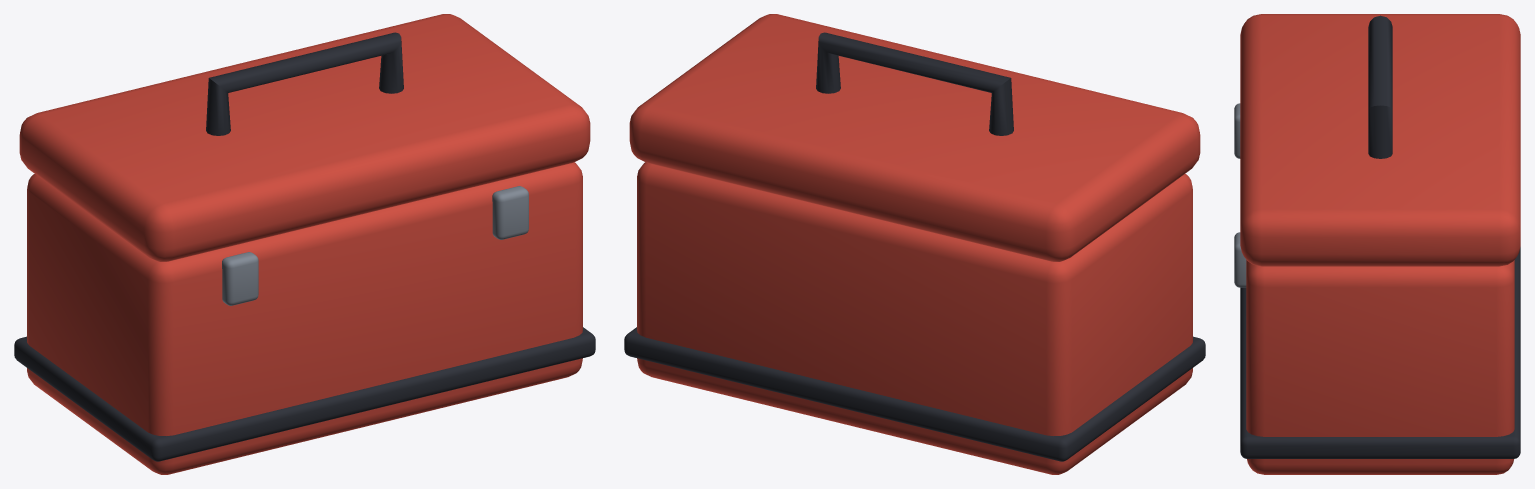
File: bau.glb
3 renders of one model, left to right at view 1: azimuth 30°, elevation 25°; view 2: azimuth 150°, elevation 25°; view 3: azimuth 270°, elevation 25°, orthographic. The views are drawn at different scales.
Visible parts, largest first — view 1: bau_corpo, Cube.004, Cube, tubo.001, Cube.002, Cube.001; view 2: bau_corpo, Cube.004, Cube, tubo.001; view 3: Cube.004, bau_corpo, Cube, tubo.001, Cube.002, Cube.001.
Part boxes in pixels (left/top/right/bottom): bau_corpo: left=27, top=162, right=582, bottom=474; Cube.004: left=19, top=14, right=590, bottom=261; Cube: left=14, top=327, right=595, bottom=461; tubo.001: left=206, top=32, right=403, bottom=135; Cube.002: left=492, top=186, right=528, bottom=239; Cube.001: left=222, top=252, right=258, bottom=305; bau_corpo: left=637, top=162, right=1192, bottom=474; Cube.004: left=629, top=14, right=1200, bottom=261; Cube: left=624, top=327, right=1205, bottom=461; tubo.001: left=816, top=32, right=1013, bottom=135; Cube.004: left=1240, top=14, right=1520, bottom=266; bau_corpo: left=1246, top=260, right=1514, bottom=474; Cube: left=1240, top=247, right=1520, bottom=458; tubo.001: left=1368, top=15, right=1392, bottom=158; Cube.002: left=1234, top=232, right=1246, bottom=287; Cube.001: left=1234, top=103, right=1240, bottom=158.
Size of the model in its own units: 0.82 by 0.5741 by 0.47.
